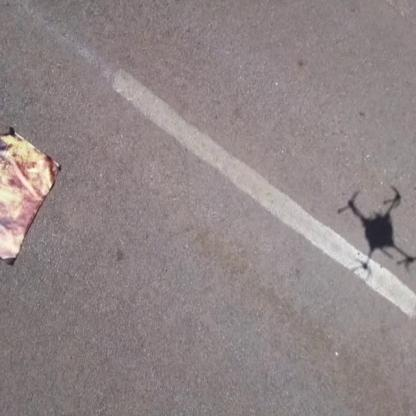fire-poster: (0, 125, 62, 266)
